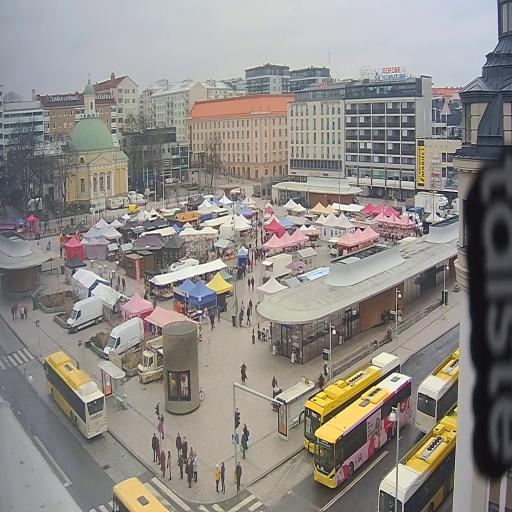bus: (313, 371, 412, 488), (303, 352, 400, 453), (398, 407, 457, 512), (44, 351, 108, 438), (415, 348, 459, 433), (113, 477, 166, 512), (378, 468, 395, 512)
delivery: (103, 318, 144, 359), (67, 296, 103, 332), (138, 336, 163, 383), (415, 192, 450, 218)
